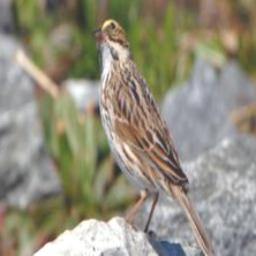Sparrow: (91, 16, 216, 256)
